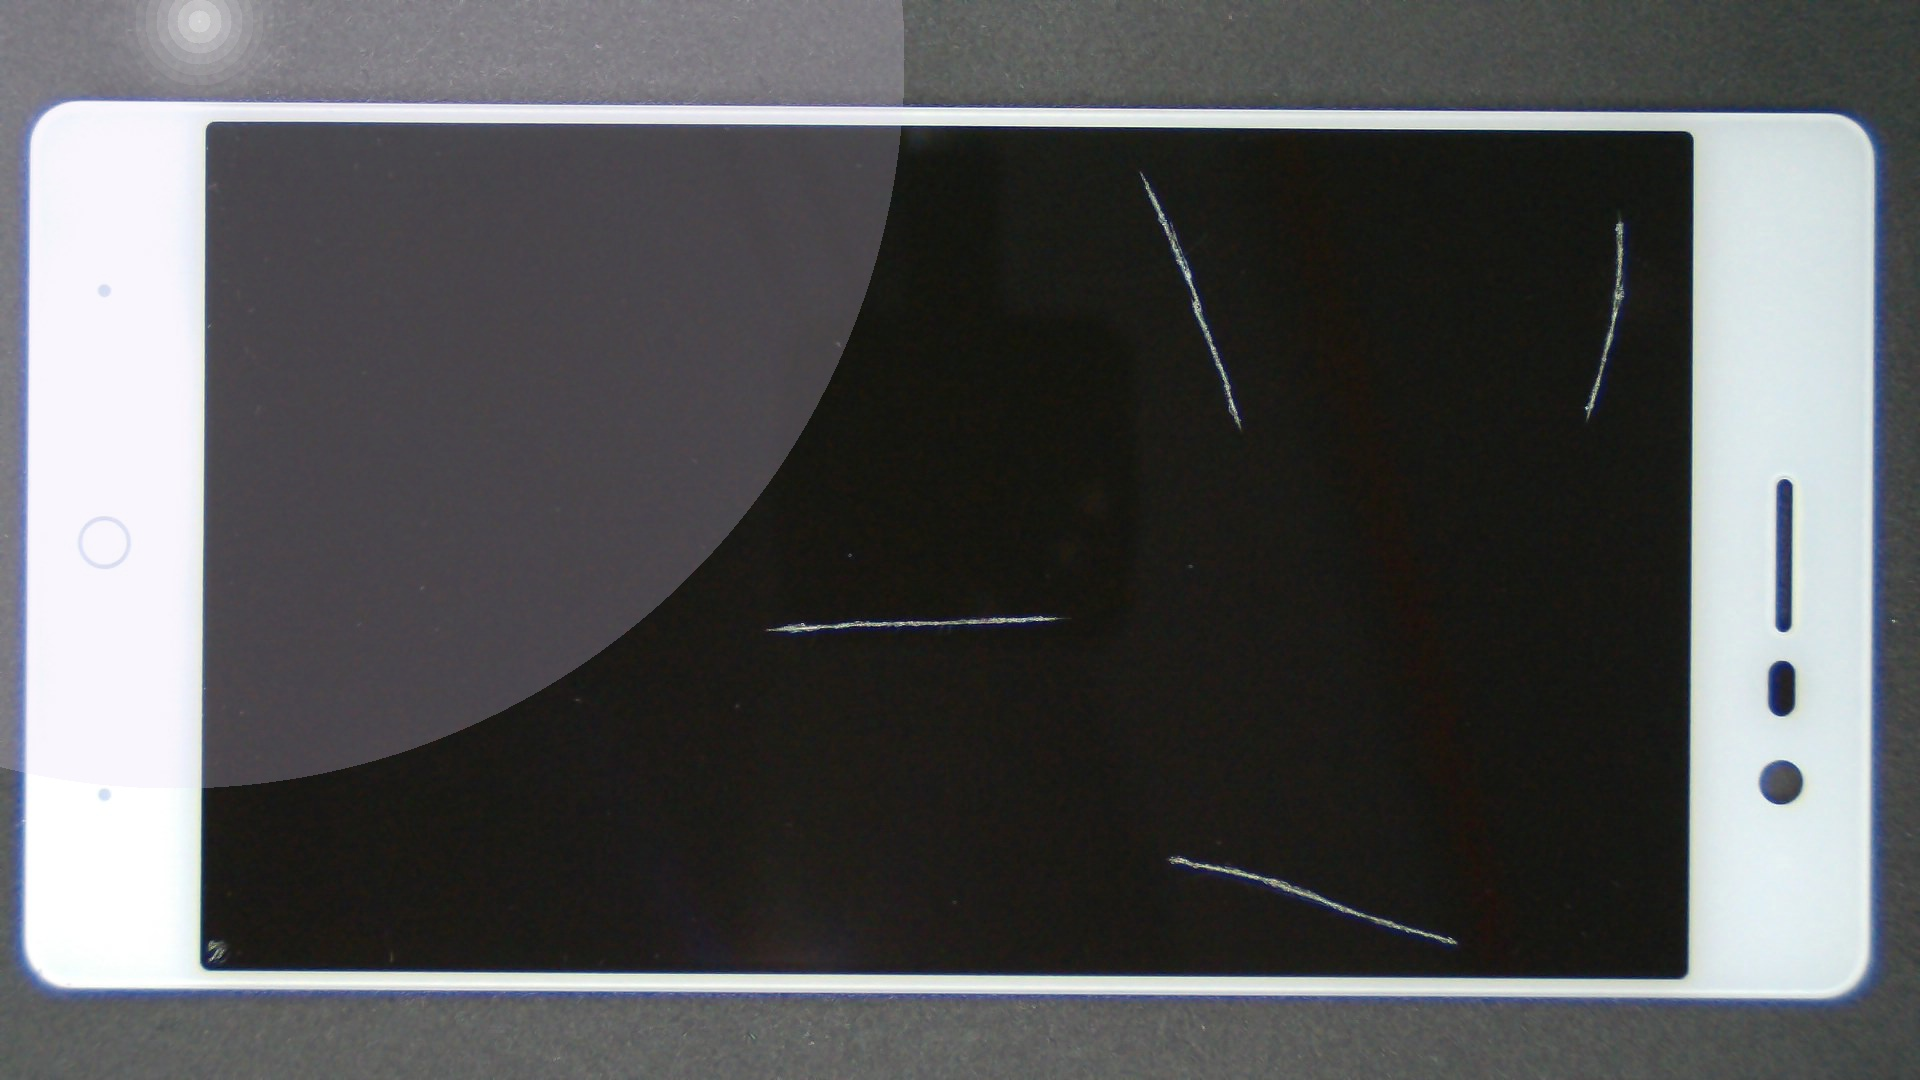oil: (588, 427, 1762, 1080), (520, 307, 1557, 923), (810, 105, 1920, 322), (570, 84, 1710, 256), (107, 468, 318, 1080)
